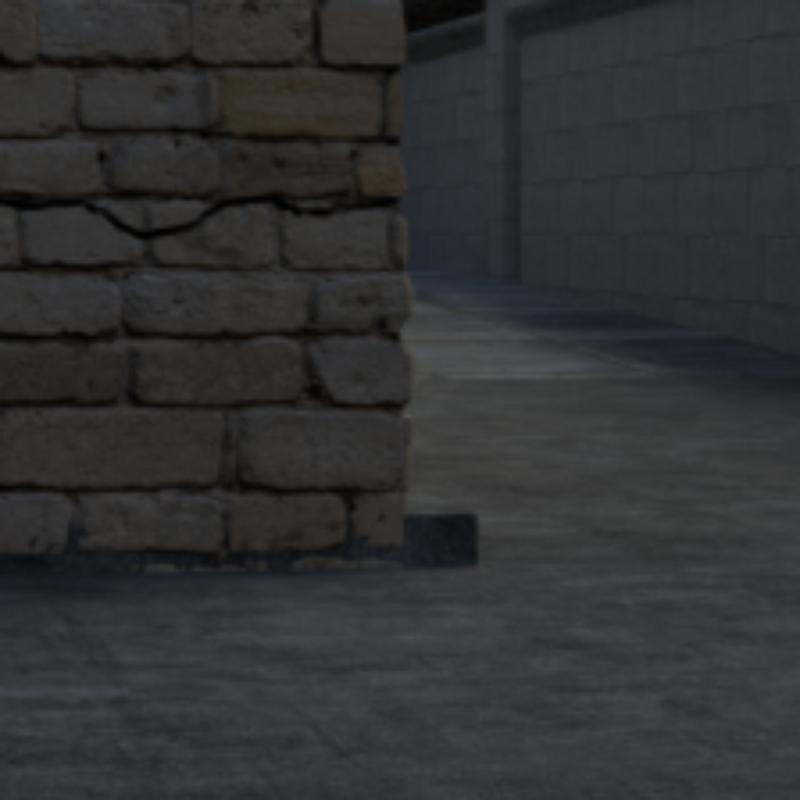crack: (0, 196, 396, 236)
